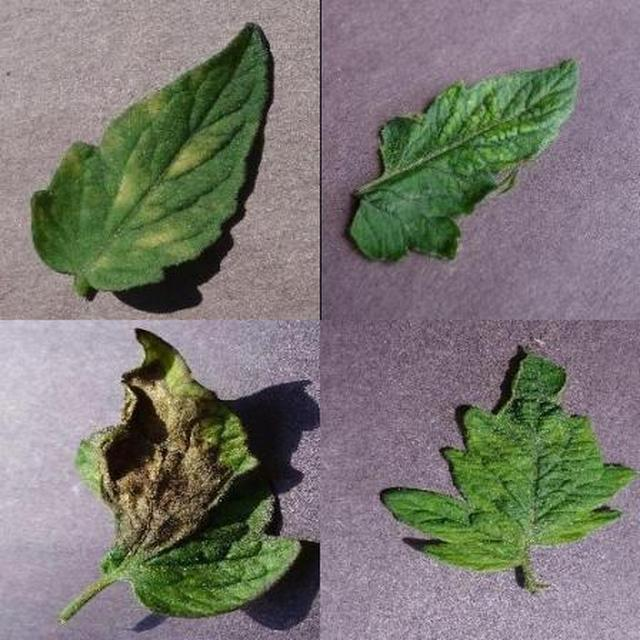Leaf Mold: (215, 226, 640, 640)
